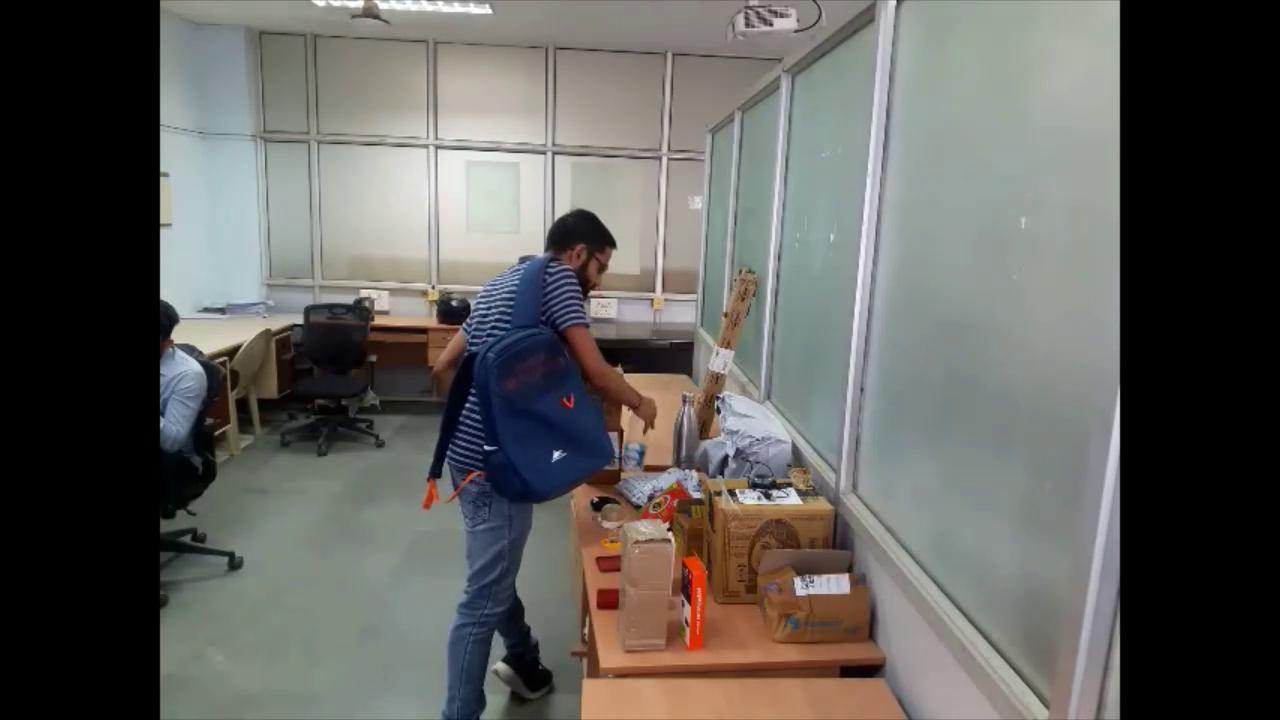Normal: (414, 214, 658, 720)
